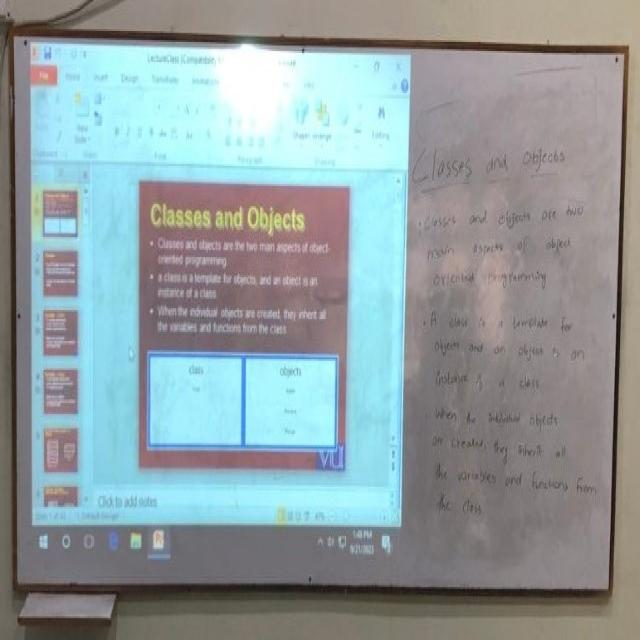Slide: (28, 45, 411, 567)
White-board: (13, 33, 628, 597)
